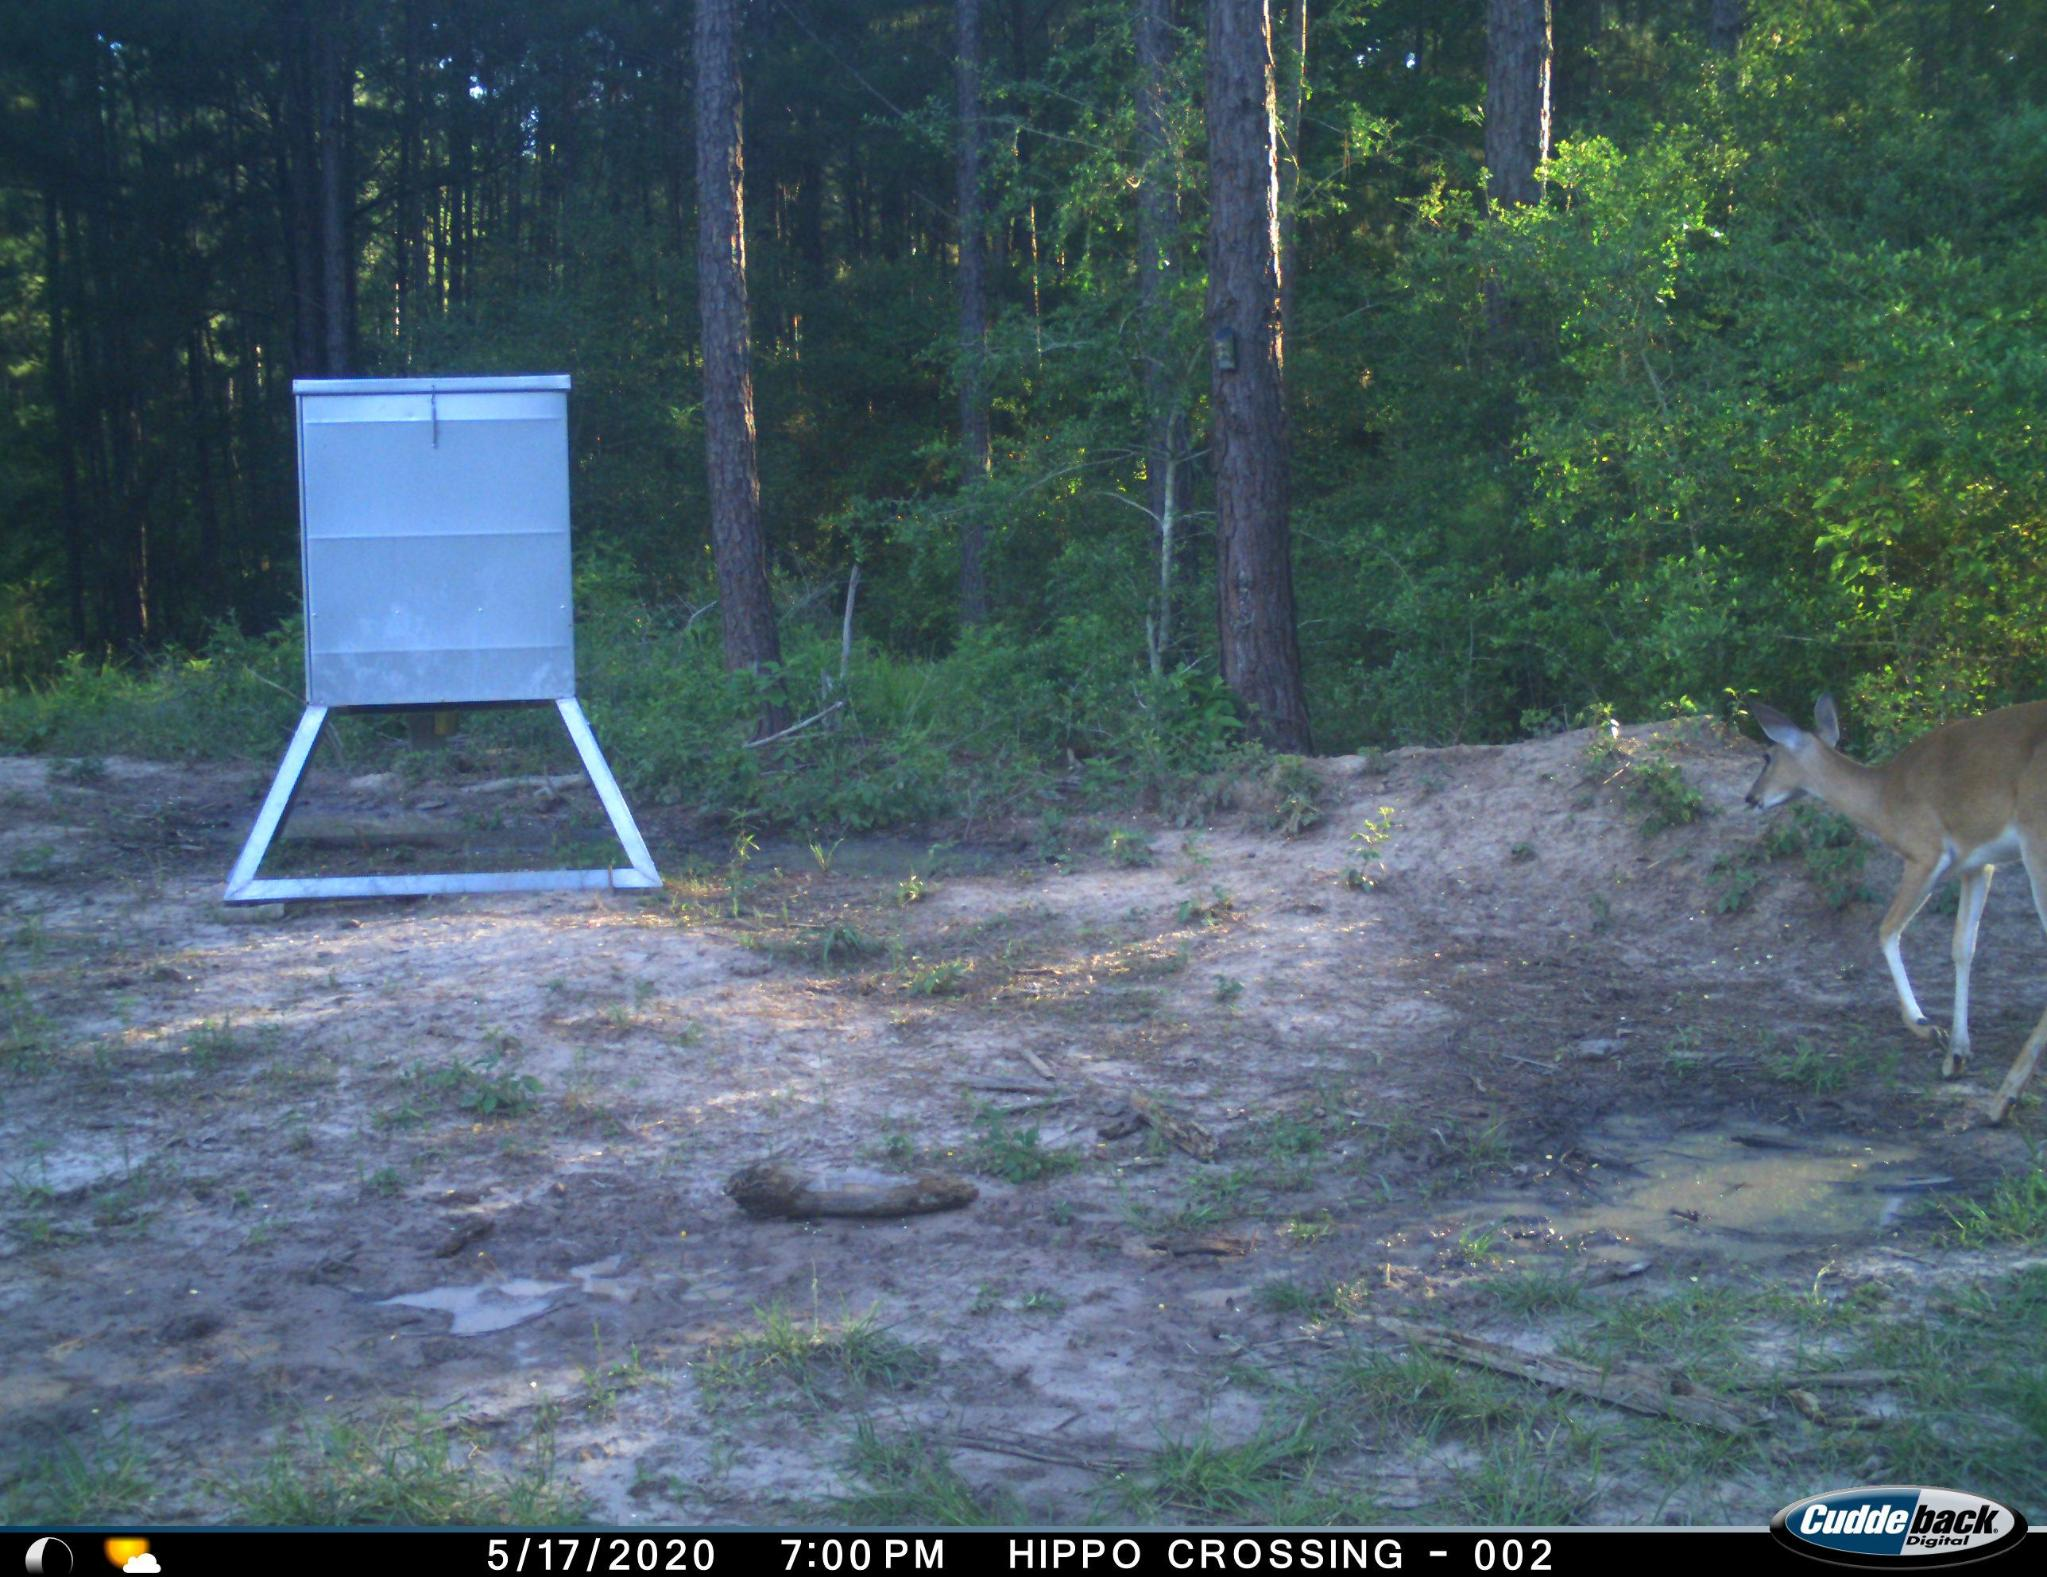Deer: (1731, 661, 2047, 1150)
